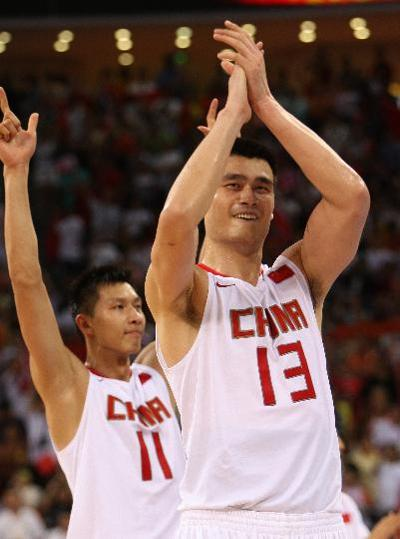person: (145, 19, 372, 539)
